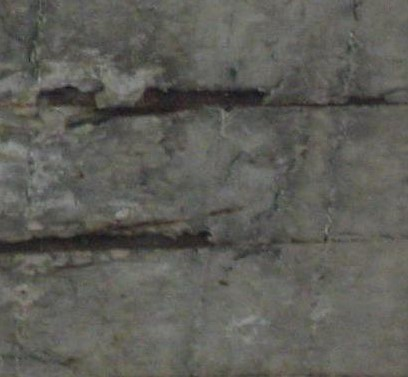Exposed reinforcement: (39, 86, 270, 128), (1, 229, 215, 255)
